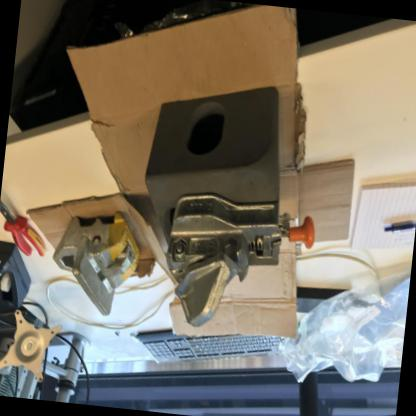CornerCasting: (135, 67, 295, 286)
Twistlock: (151, 182, 323, 339), (46, 203, 144, 324)
